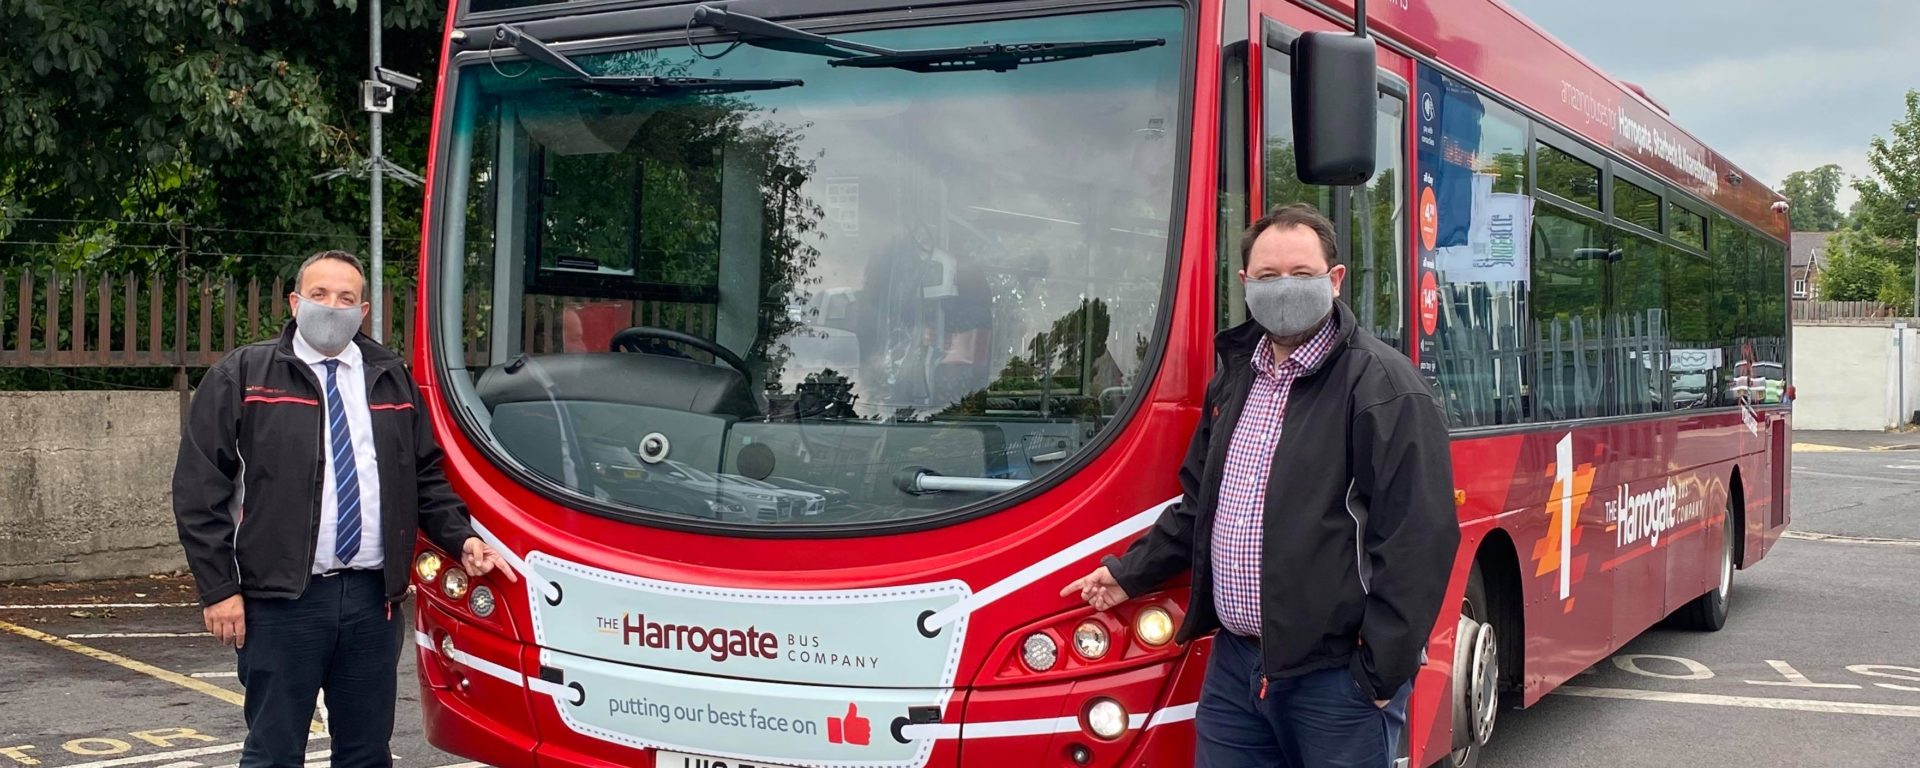with_mask: (1238, 215, 1351, 334), (291, 258, 371, 352)
